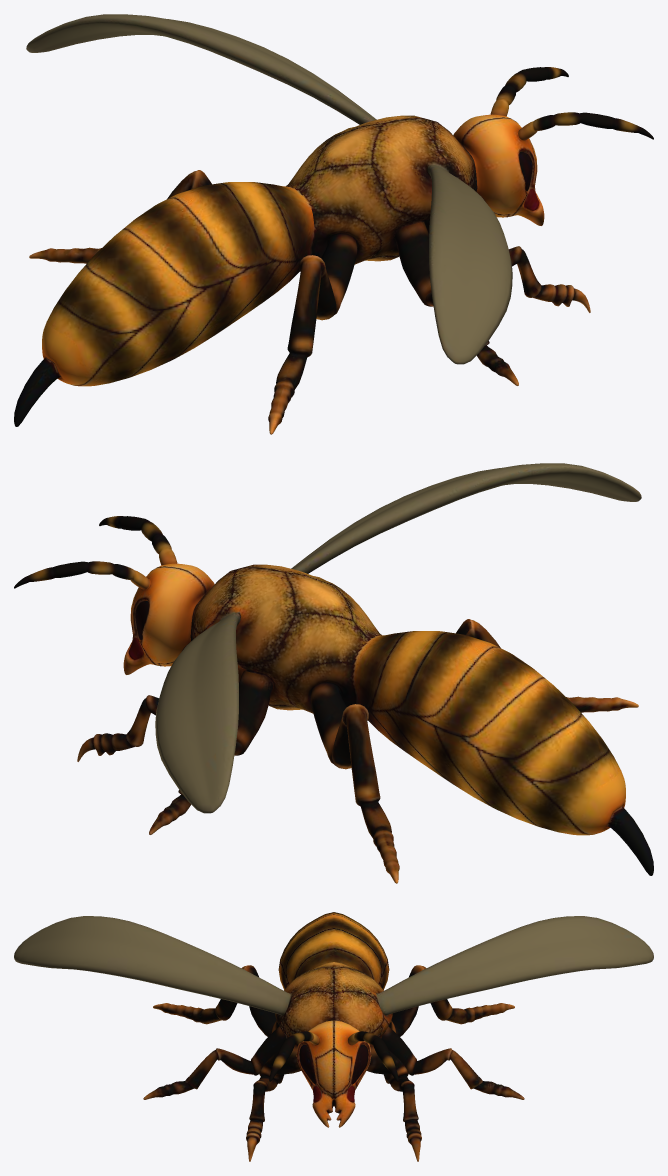
Rendered from MZ4250 - Giant Wasp.glb.
3 views of the same model, one above another, from view 1: azimuth 30°, elevation 25°; view 2: azimuth 150°, elevation 25°; view 3: azimuth 270°, elevation 25° (orthographic). The views are drawn at different scales.
Parts seen in each view (by area): view 1: Giant Wasp 2.001; view 2: Giant Wasp 2.001; view 3: Giant Wasp 2.001.
Boxes of the visible parts, <box> form: Giant Wasp 2.001: <box>14,14,653,434</box>; Giant Wasp 2.001: <box>14,463,653,883</box>; Giant Wasp 2.001: <box>14,912,653,1161</box>.
Size of the model in its own units: 132 by 49.98 by 165.
Materials: 1 (1 with a texture image).
